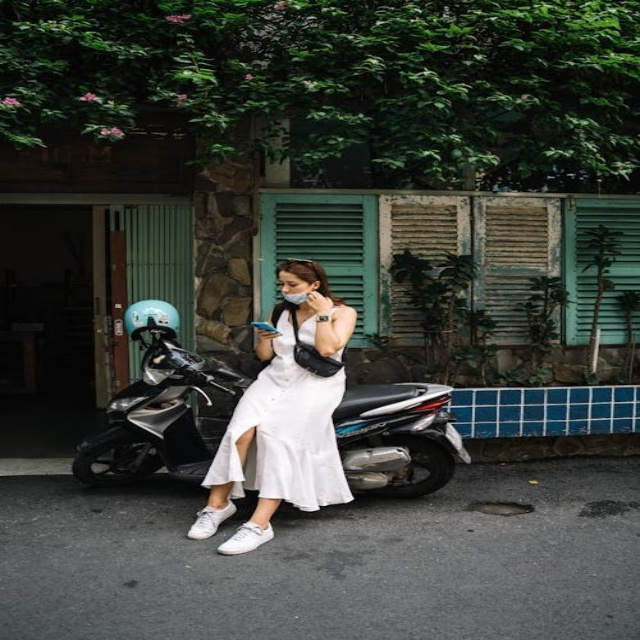Mascara: (282, 289, 313, 305)
Sin_gafas: (271, 276, 306, 290)
Sin_guantes: (301, 289, 340, 316), (252, 324, 283, 341)
